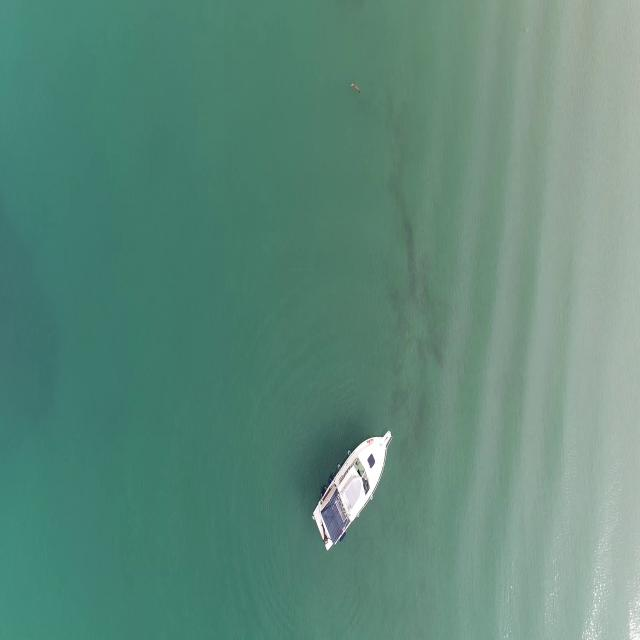boat: (314, 426, 392, 558)
wood: (350, 82, 362, 95)
